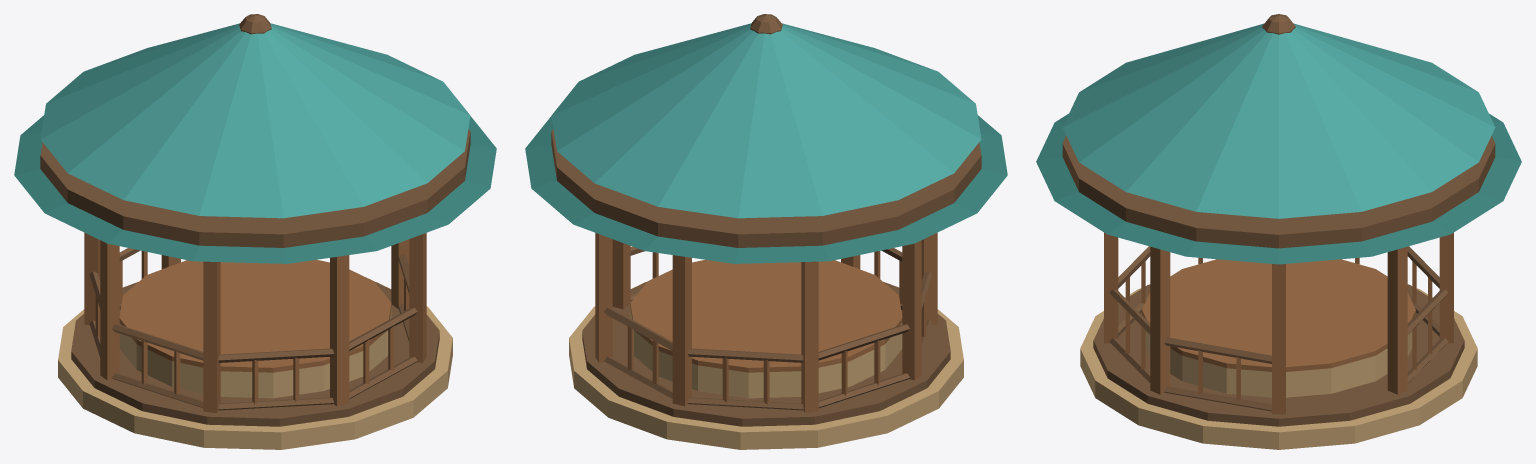
File: xy_isle_gazebo.glb
3 views of the same model, side by side, from view 1: azimuth 30°, elevation 25°; view 2: azimuth 150°, elevation 25°; view 3: azimuth 270°, elevation 25° (orthographic).
Visible parts, largest first — view 1: Gazebo; view 2: Gazebo; view 3: Gazebo.
Part boxes in pixels (x1,y1,x2,y2): Gazebo: (14, 14, 496, 449); Gazebo: (525, 14, 1007, 449); Gazebo: (1036, 14, 1521, 449).
Bounding box in the file's own units: 5.5 × 4.38 × 5.5.
